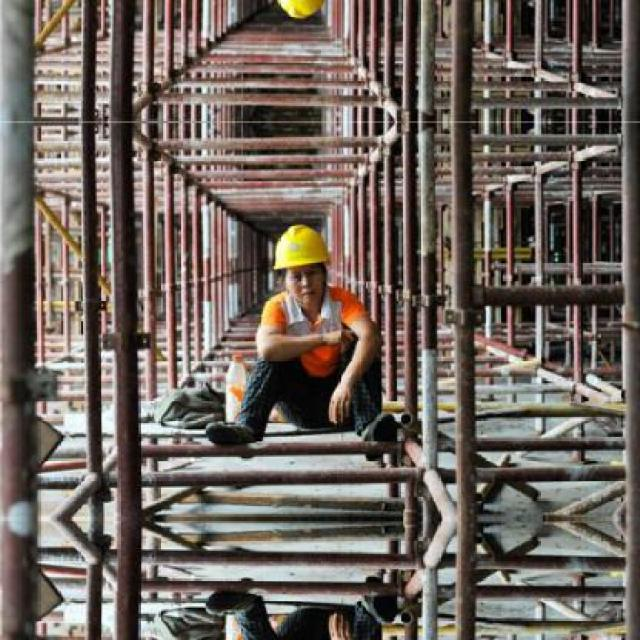helmet: (271, 214, 338, 306), (271, 0, 340, 26)
